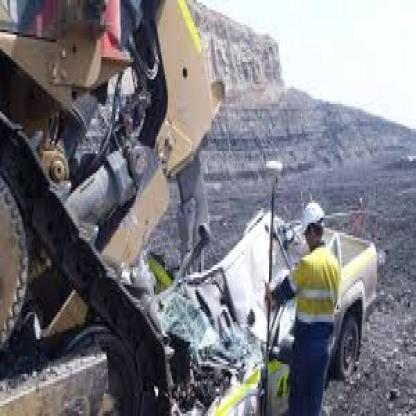person: (259, 154, 344, 414)
